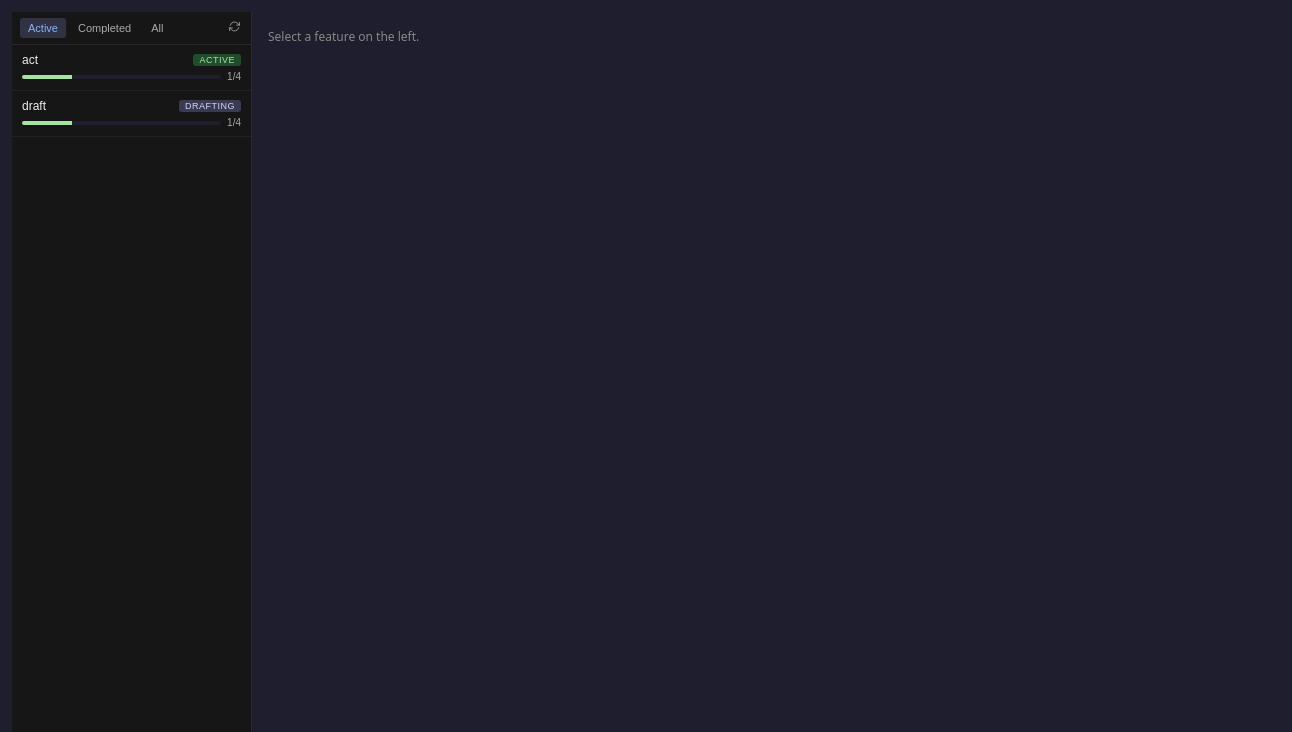
Test: PlanTile shell › filter chips hide completed by default; All shows everything
Expected: the button with test id "feature-row-act" is shown, [12,45,251,91]
Step 1. Click the button with test id "plan-filter-completed" → (105,28), box [70,18,139,38]
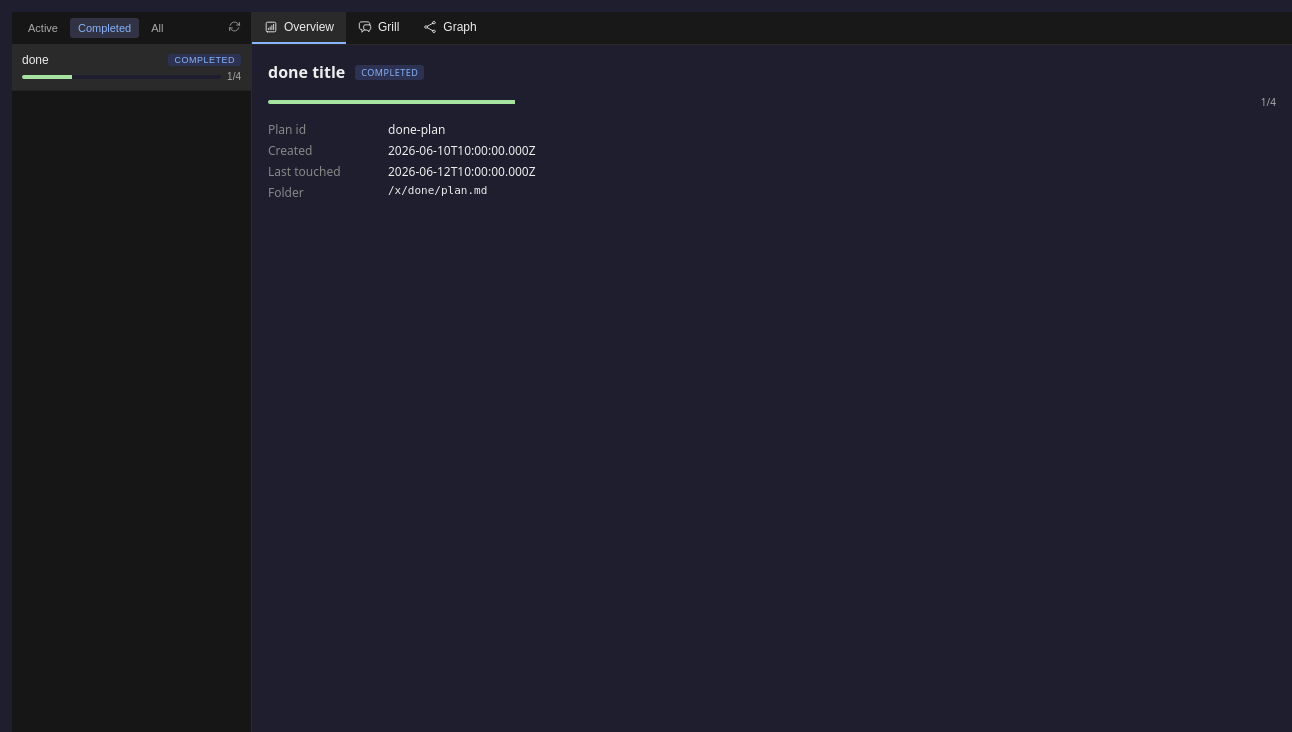
Expected: the button with test id "feature-row-done" is shown, [12,45,251,91]
Expected: the button with test id "feature-row-act" is gone
Step 2. Click the button with test id "plan-filter-all" → (157,28), box [143,18,171,38]
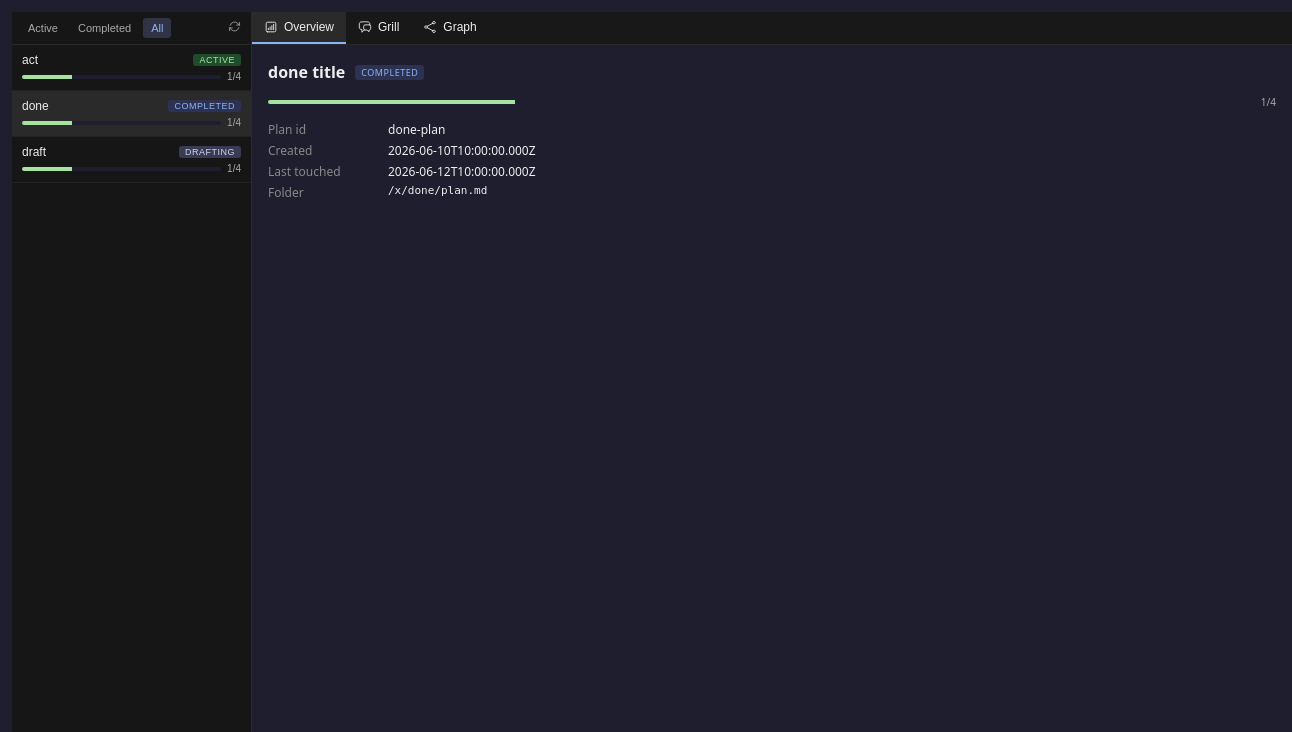
Expected: the button with test id "feature-row-done" is shown, [12,91,251,137]
Expected: the button with test id "feature-row-act" is shown, [12,45,251,91]
Expected: the button with test id "feature-row-draft" is shown, [12,137,251,183]
